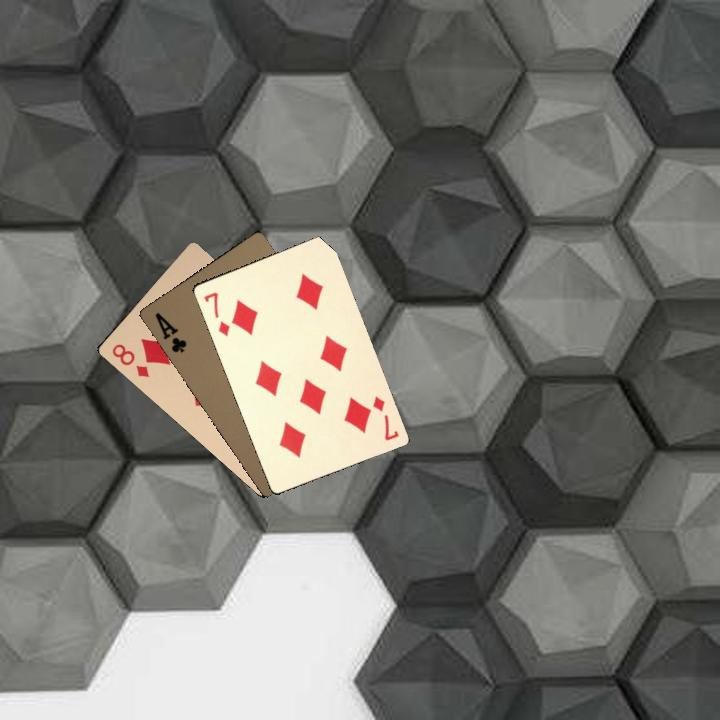7d: (368, 392, 401, 443), (200, 288, 232, 338)
8d: (108, 340, 152, 380)
Ac: (151, 308, 189, 355)
